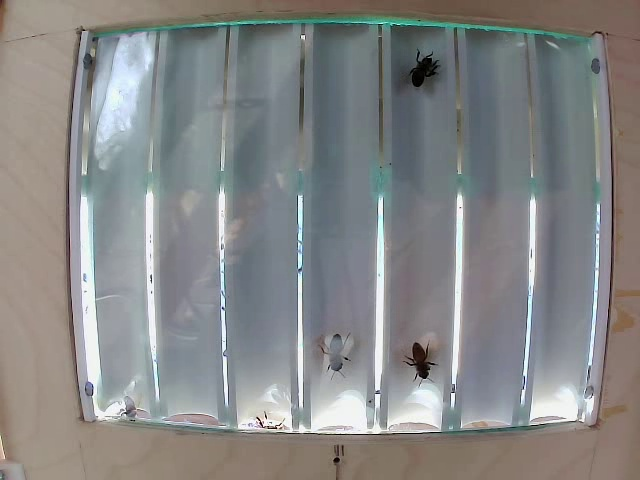bee: (390, 336, 434, 386), (409, 46, 444, 90), (319, 333, 347, 381)
